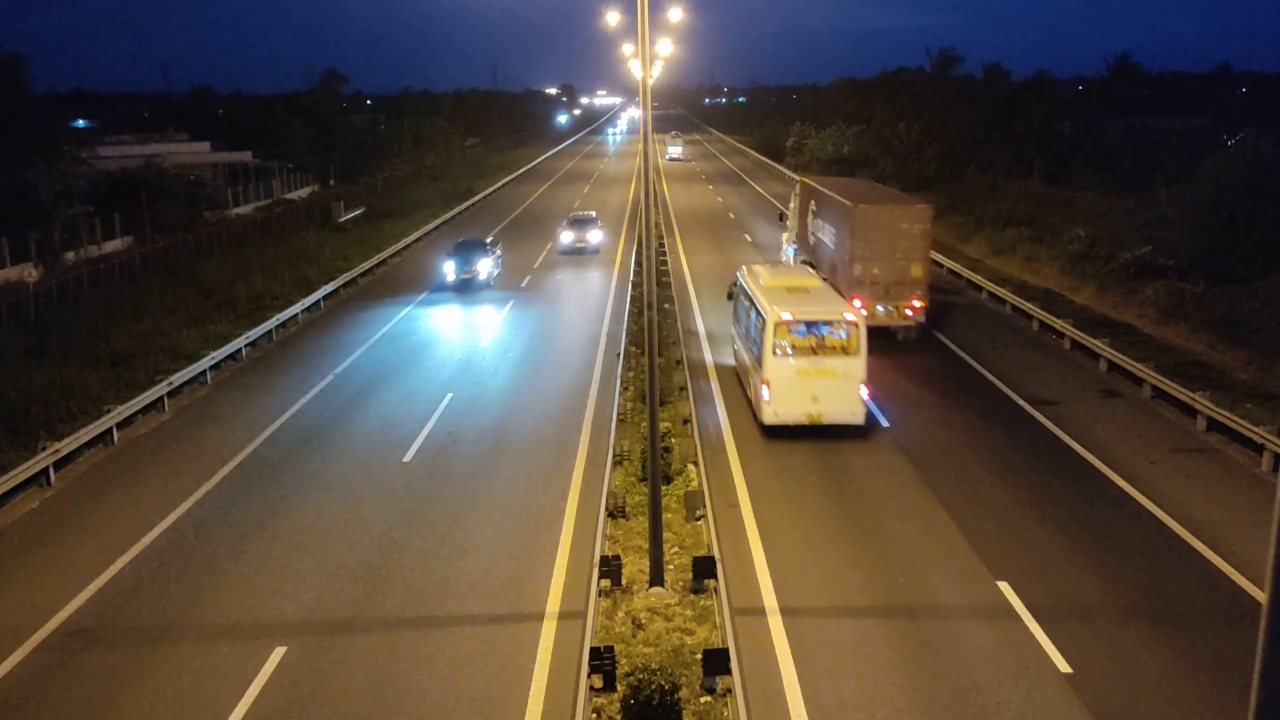bus: (727, 259, 871, 437)
car: (441, 237, 503, 293), (556, 210, 605, 255)
truck: (781, 173, 935, 342)
